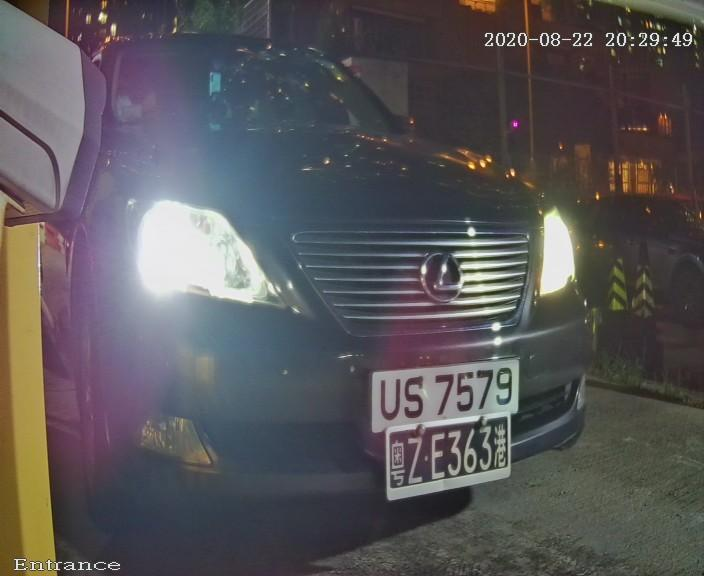Car: (1, 1, 642, 561)
License Plate: (339, 339, 552, 464)
